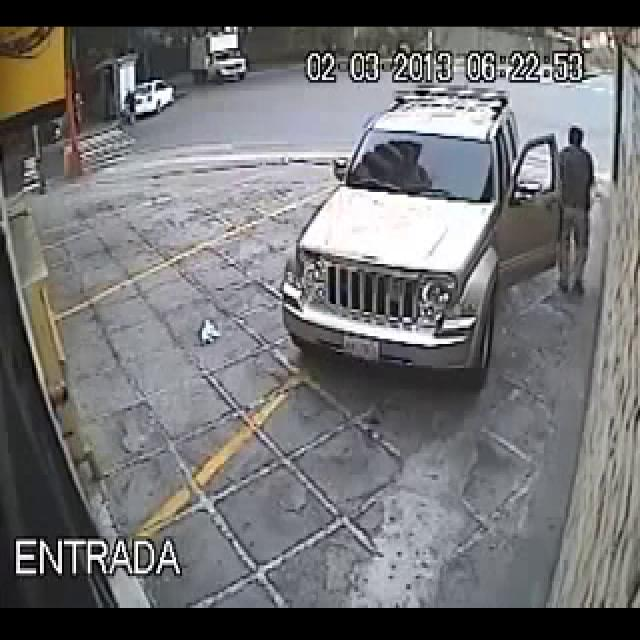shooting: (500, 50, 617, 351)
